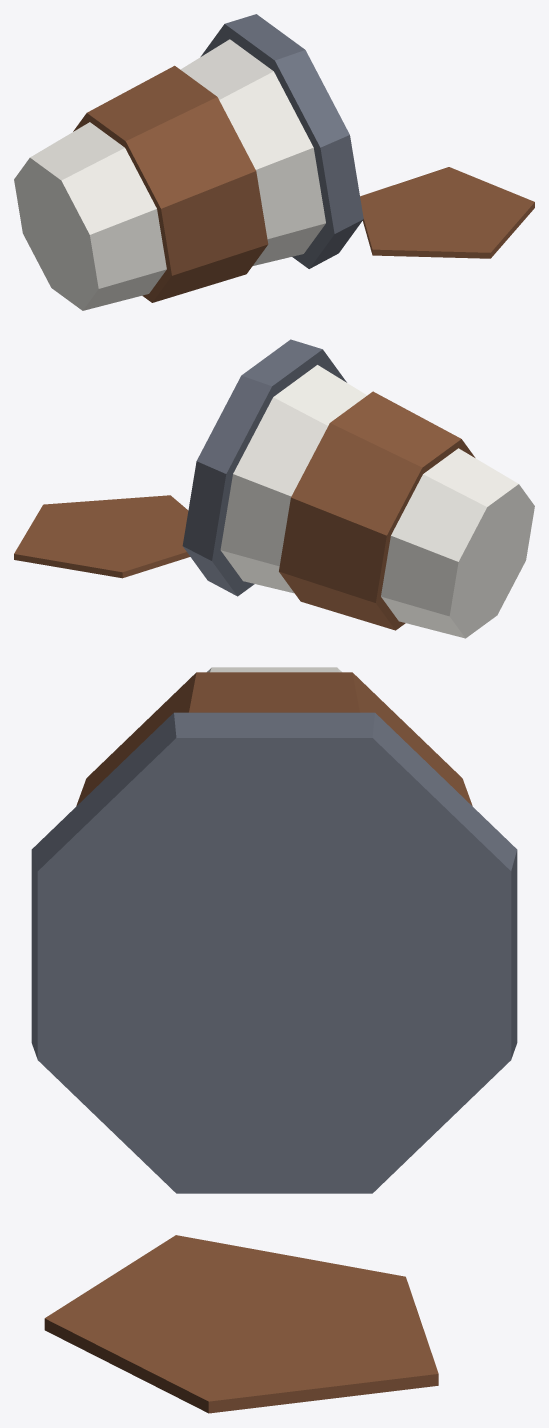
Rendered from J_CoffeeCup.fbx.
3 renders of one model, top to bottom at view 1: azimuth 30°, elevation 25°; view 2: azimuth 150°, elevation 25°; view 3: azimuth 270°, elevation 25°, orthographic. The views are drawn at different scales.
Visible parts, largest first — view 1: J_CoffeeCup; view 2: J_CoffeeCup; view 3: J_CoffeeCup.
Part boxes in pixels (x1,y1,x2,y2): J_CoffeeCup: (14, 14, 534, 310); J_CoffeeCup: (14, 339, 534, 638); J_CoffeeCup: (31, 667, 517, 1413).
Bounding box in the file's own units: 0.665 × 0.2982 × 0.2956.
